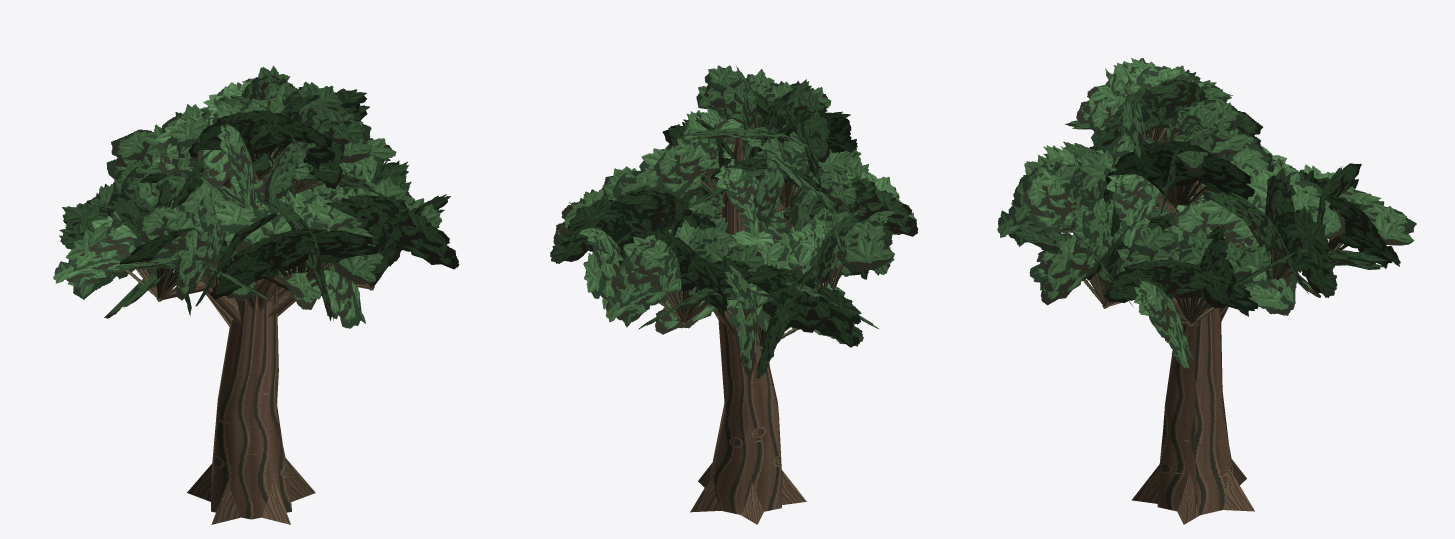
Rendered from broad-oak-near.glb.
3 views of the same model, side by side, from view 1: azimuth 30°, elevation 25°; view 2: azimuth 150°, elevation 25°; view 3: azimuth 270°, elevation 25° (orthographic). The views are drawn at different scales.
Parts seen in each view (by area): view 1: Broad oak near v3 runtime; view 2: Broad oak near v3 runtime; view 3: Broad oak near v3 runtime.
Part boxes in pixels (box(x1,y1,x2,y2)): Broad oak near v3 runtime: box(53, 65, 459, 524); Broad oak near v3 runtime: box(550, 65, 918, 524); Broad oak near v3 runtime: box(997, 58, 1416, 524).
Size of the model in its own units: 6.52 by 7.83 by 7.03.
Materials: 1 (1 with a texture image).
